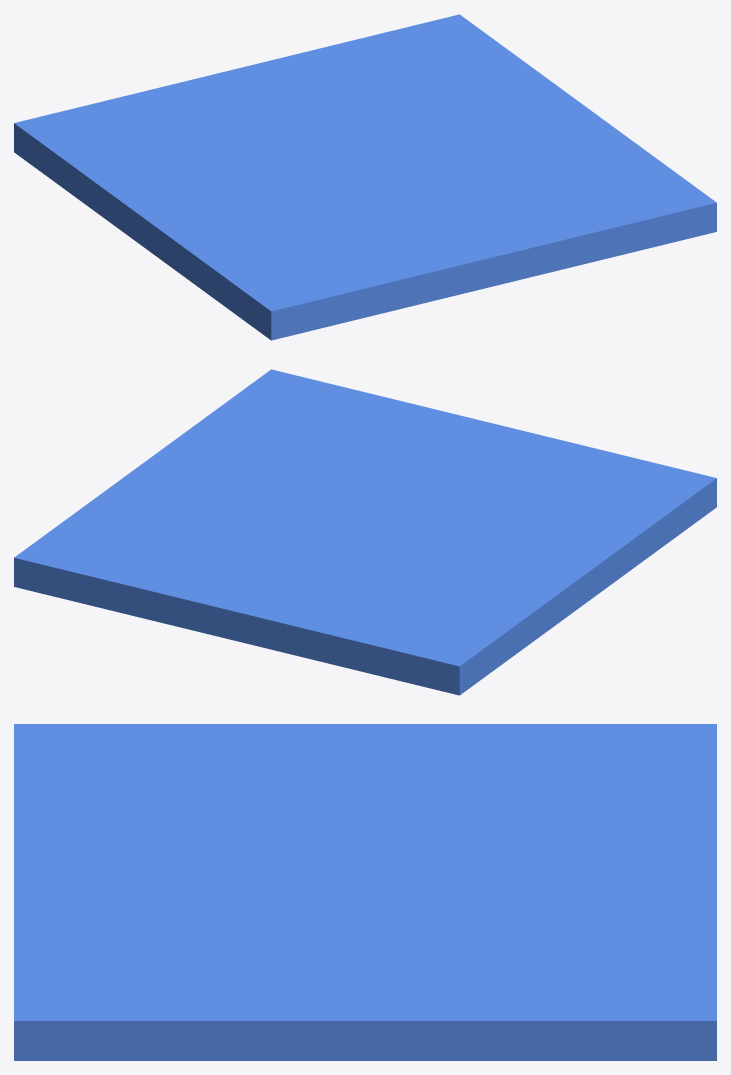
Rendered from water.gltf.
The picture shows the model from 3 angles, top to bottom: view 1: azimuth 30°, elevation 25°; view 2: azimuth 150°, elevation 25°; view 3: azimuth 270°, elevation 25°; orthographic projection. The views are drawn at different scales.
Parts seen in each view (by area): view 1: water; view 2: water; view 3: water.
Boxes of the visible parts, <box> form: water: <box>14,14,716,340</box>; water: <box>14,369,716,695</box>; water: <box>14,724,716,1060</box>.
Size of the model in its own units: 16 by 1 by 16.
1 material, 1 textured.
